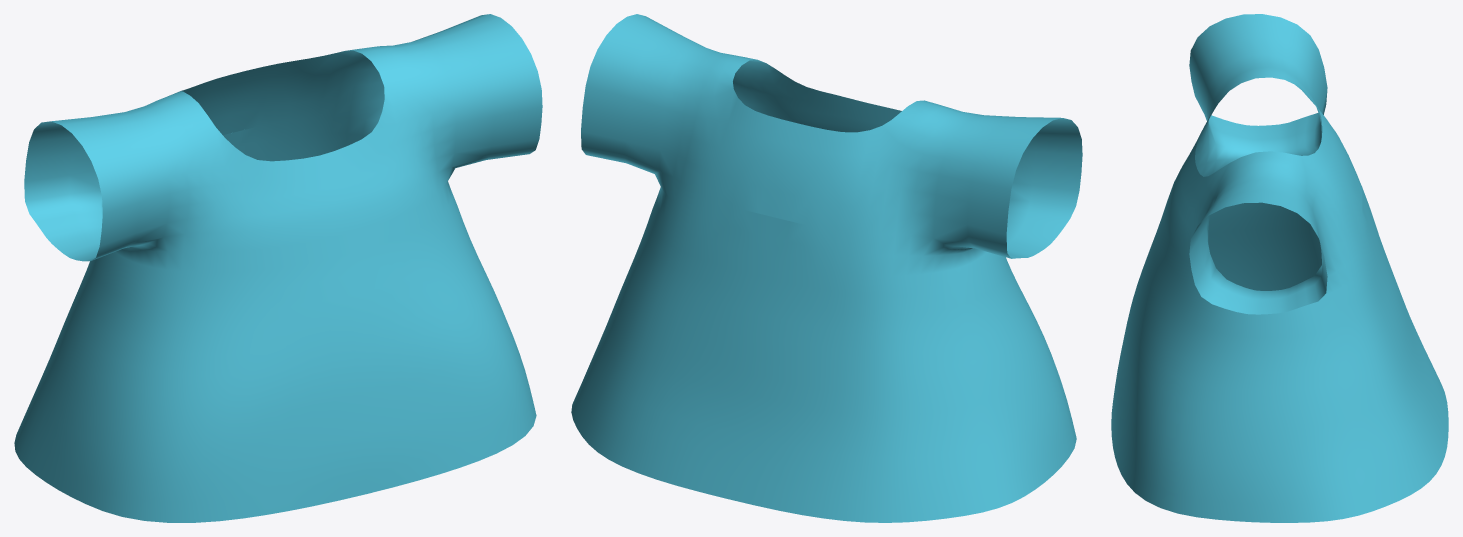
File: Top_PlainShirt.fbx
3 views of the same model, side by side, from view 1: azimuth 30°, elevation 25°; view 2: azimuth 150°, elevation 25°; view 3: azimuth 270°, elevation 25° (orthographic). The views are drawn at different scales.
Visible parts, largest first — view 1: Plain_Shirt; view 2: Plain_Shirt; view 3: Plain_Shirt.
Boxes of the visible parts, x1,y1,x2,y2 form: Plain_Shirt: [14, 14, 542, 522]; Plain_Shirt: [571, 14, 1082, 522]; Plain_Shirt: [1111, 14, 1448, 522].
Bounding box in the file's own units: 98.45 × 73.85 × 71.4.
